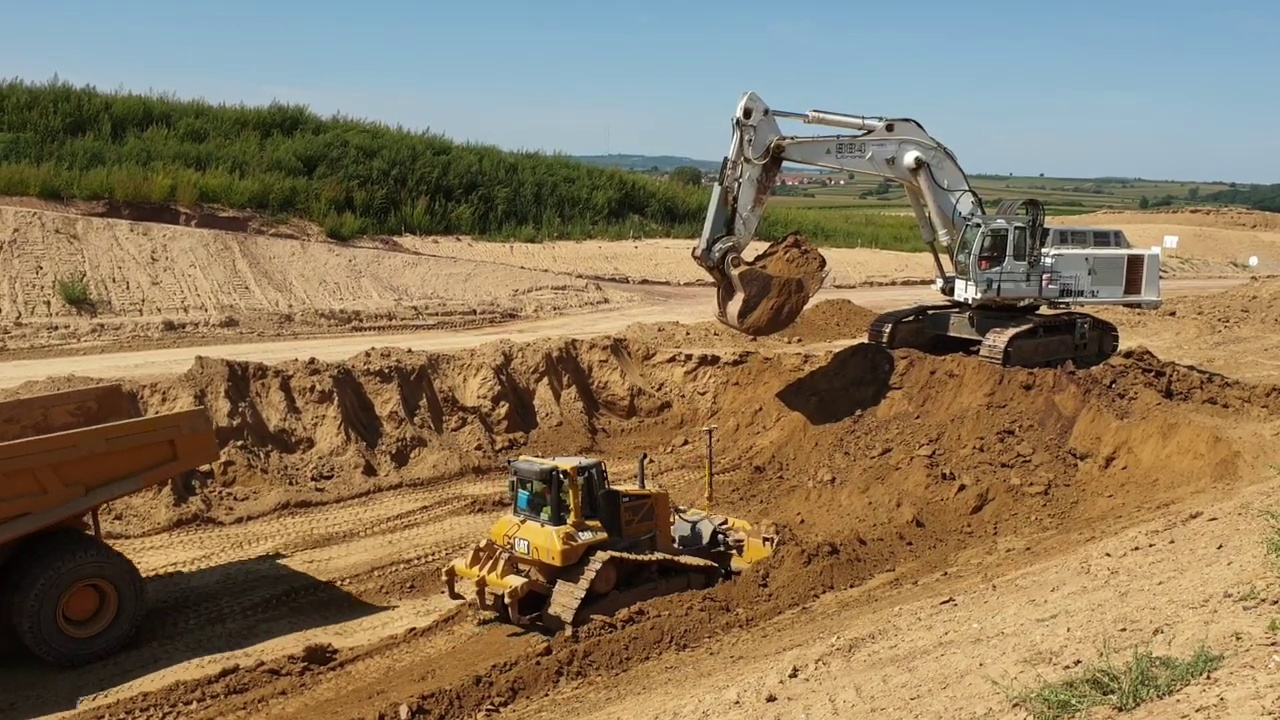bulldozer: (442, 420, 801, 640)
excavator: (691, 88, 1166, 381)
truck: (2, 385, 228, 674)
